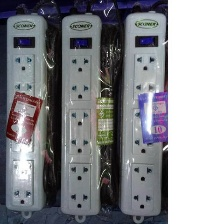three_eye_plug: (114, 8, 166, 218), (1, 11, 48, 216), (57, 10, 103, 217)
